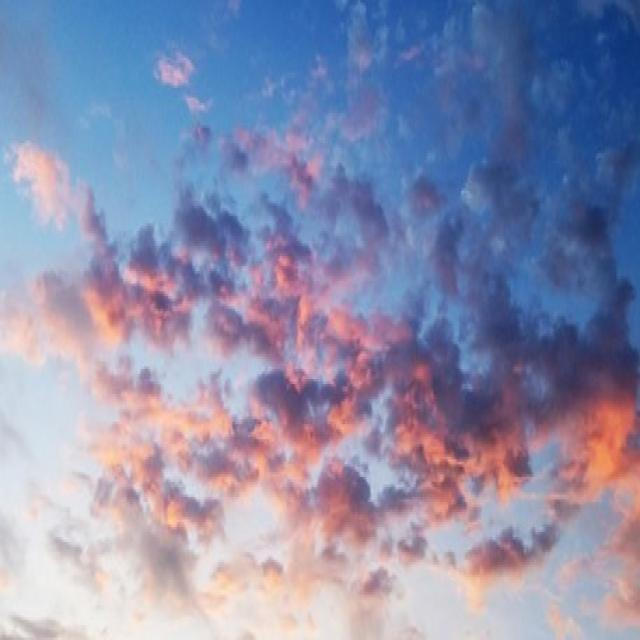altocumulus: (106, 236, 613, 568)
